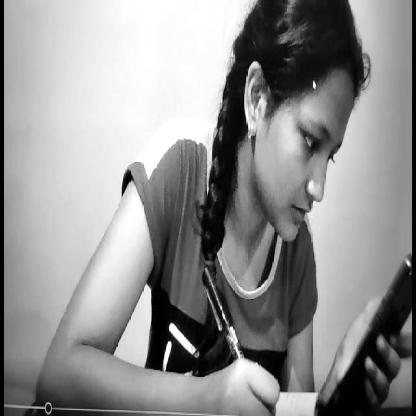Distracted: (223, 0, 363, 239)
